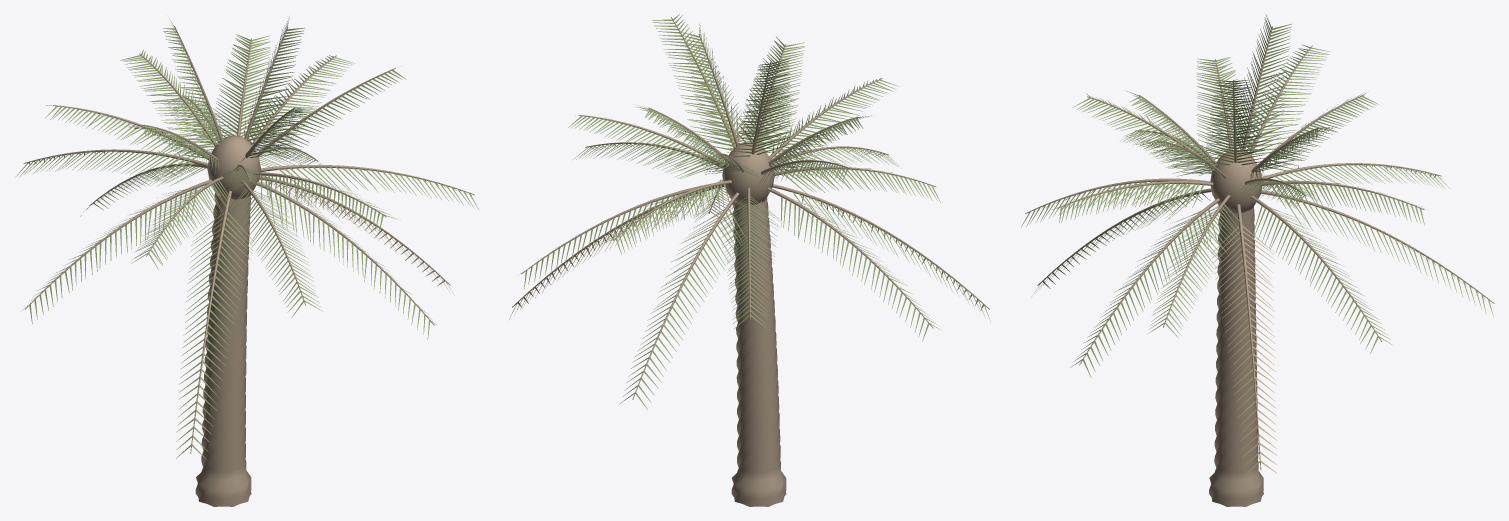
File: SM_DatePalm_C.fbx
3 views of the same model, side by side, from view 1: azimuth 30°, elevation 25°; view 2: azimuth 150°, elevation 25°; view 3: azimuth 270°, elevation 25° (orthographic).
Parts seen in each view (by area): view 1: SM_DatePalm_C; view 2: SM_DatePalm_C; view 3: SM_DatePalm_C.
Boxes of the visible parts, x1,y1,x2,y2 form: SM_DatePalm_C: [15, 16, 479, 506]; SM_DatePalm_C: [509, 14, 990, 506]; SM_DatePalm_C: [1021, 14, 1494, 506].
Bounding box in the file's own units: 775 × 808 × 756.
